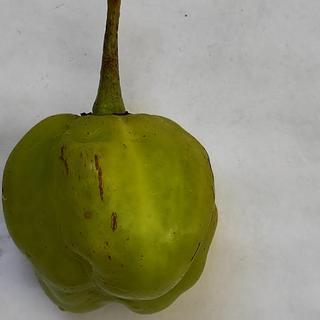Defect: (104, 207, 126, 240), (80, 201, 95, 227)
Fly-bites: (100, 249, 119, 269)
striped: (92, 152, 108, 203), (56, 142, 74, 181), (186, 240, 204, 267)
